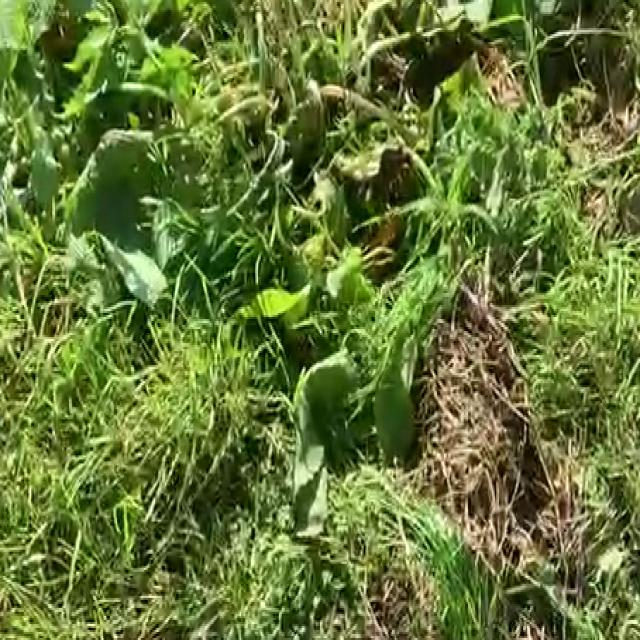organic waste: (28, 0, 295, 291), (244, 155, 444, 498)
